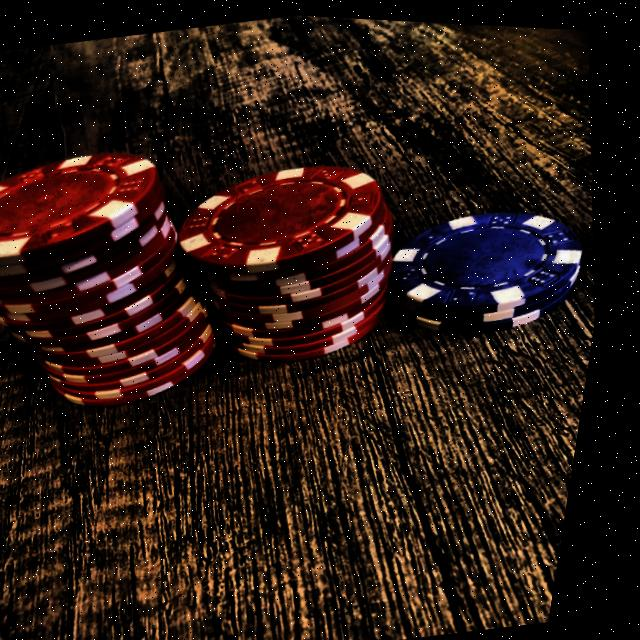Chip: (0, 104, 275, 440), (147, 117, 439, 400), (380, 178, 608, 344)
